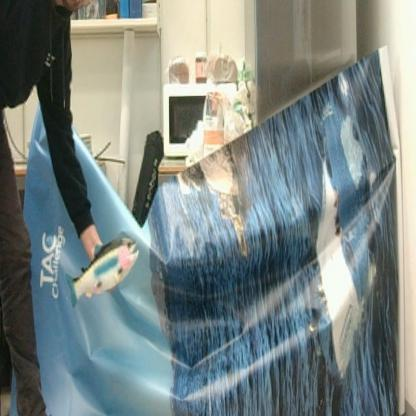rubberfish: (63, 231, 141, 314)
